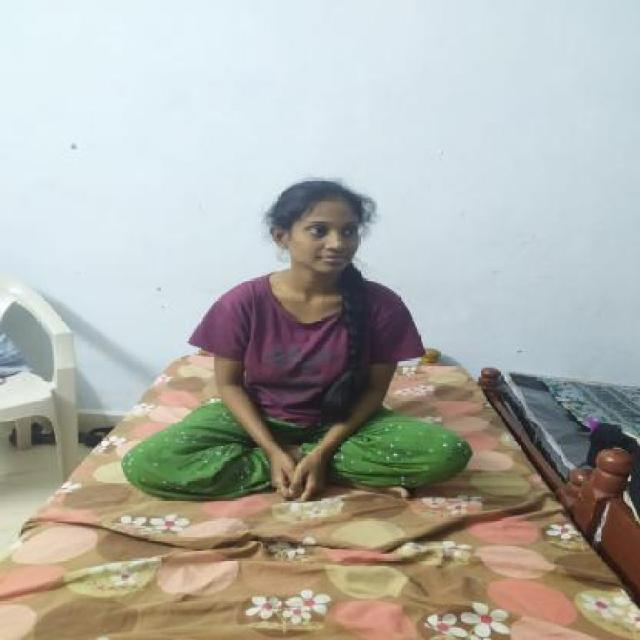cheating: (176, 159, 447, 397)
